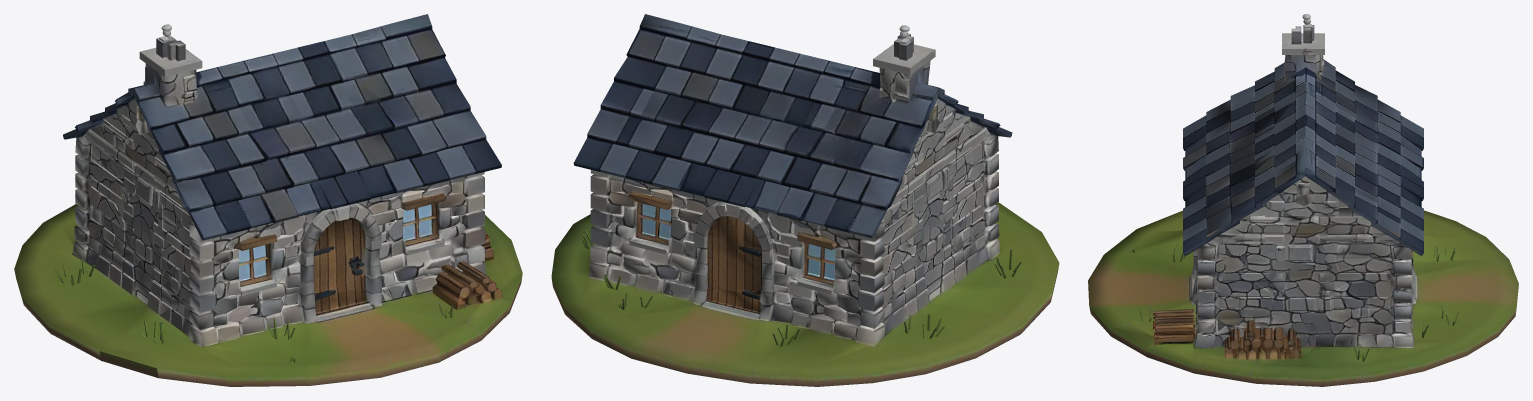
The model's file is web.glb.
3 views of the same model, side by side, from view 1: azimuth 30°, elevation 25°; view 2: azimuth 150°, elevation 25°; view 3: azimuth 270°, elevation 25° (orthographic). The views are drawn at different scales.
Visible parts, largest first — view 1: model; view 2: model; view 3: model.
Part boxes in pixels (bbox=[...]): model: bbox=[14, 14, 522, 386]; model: bbox=[551, 14, 1059, 386]; model: bbox=[1088, 14, 1518, 386].
Size of the model in its own units: 2 by 1.21 by 1.98.
1 material, 1 textured.
